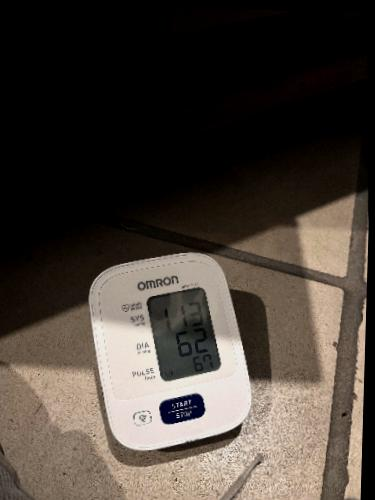bpm: (144, 286, 222, 383)
